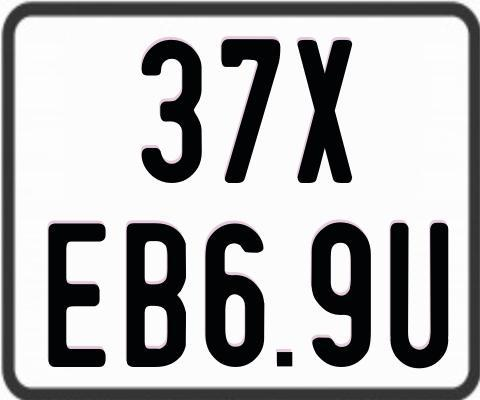3: (139, 40, 199, 188)
6: (203, 221, 263, 365)
7: (220, 38, 282, 184)
9: (310, 220, 374, 368)
B: (125, 223, 185, 372)
E: (47, 220, 108, 365)
U: (387, 221, 451, 366)
X: (295, 37, 350, 180)
